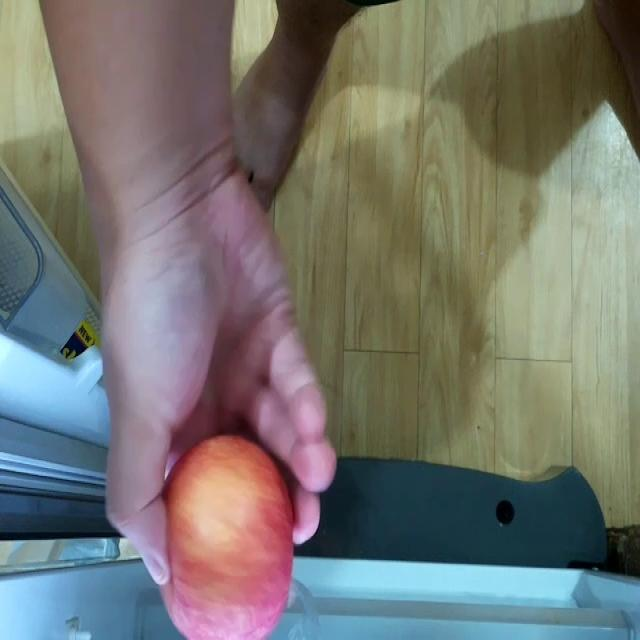apple: (167, 437, 299, 640)
